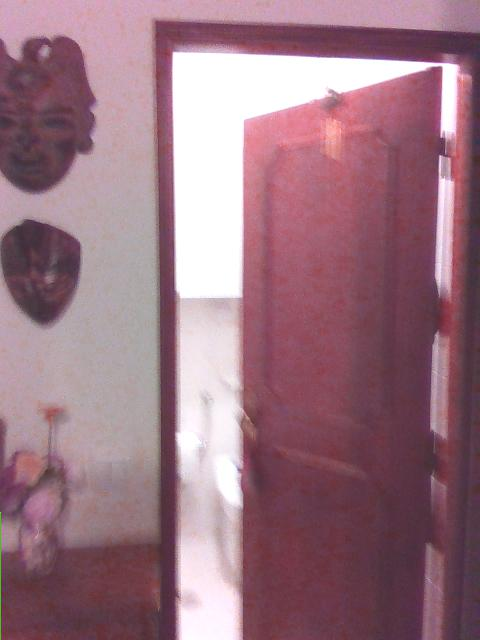semi_door: (153, 18, 479, 639)
